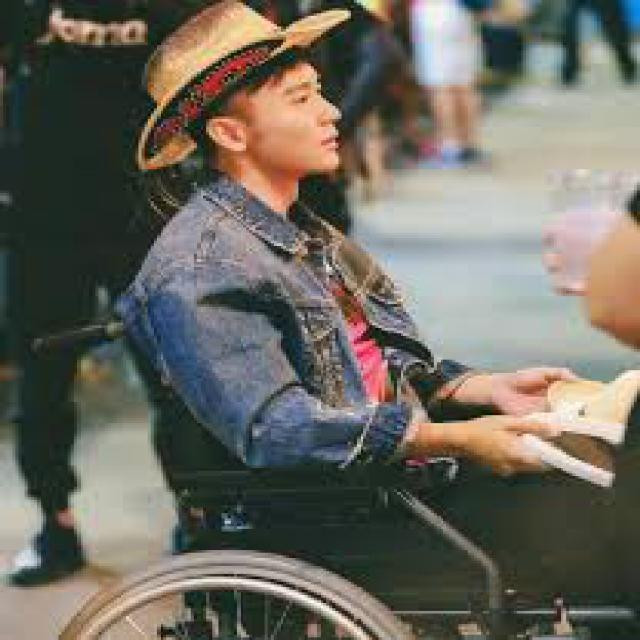wheelchairs: (21, 270, 637, 638)
